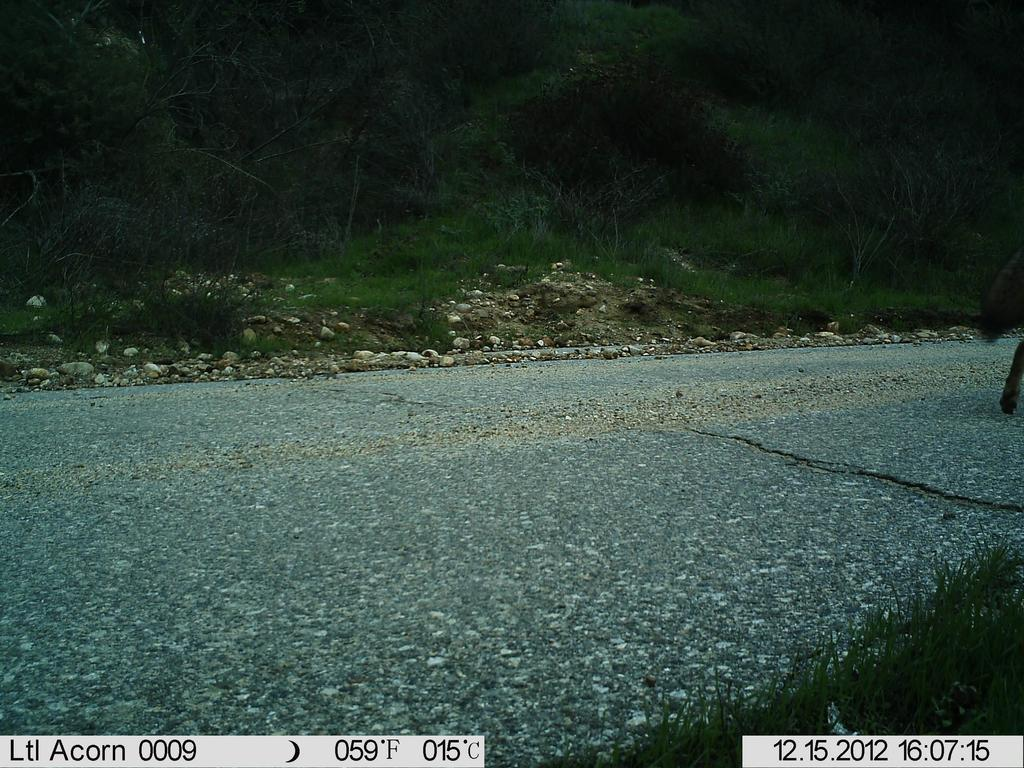coyote: (983, 246, 1024, 418)
